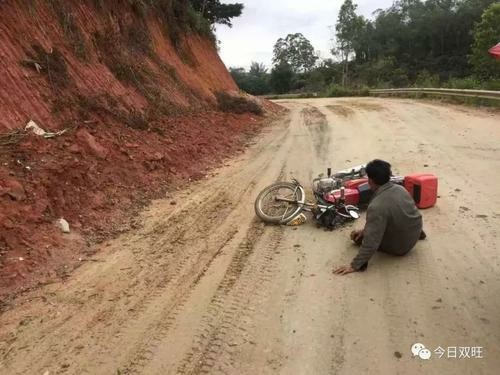falling: (335, 152, 434, 286)
